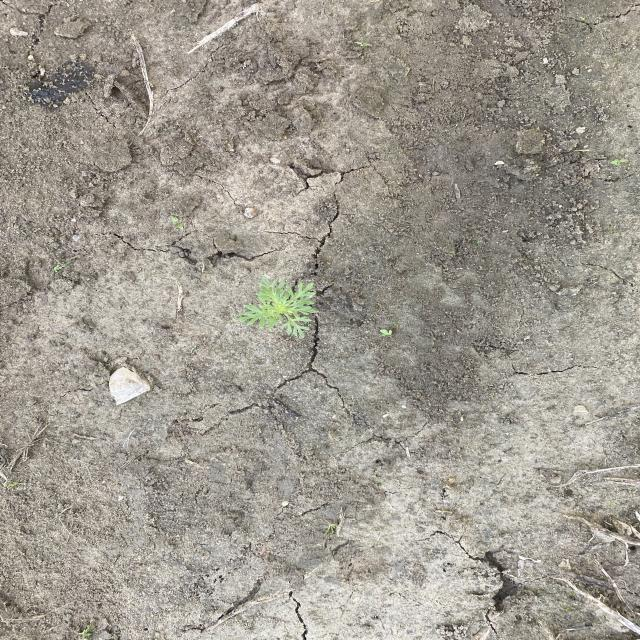Ragweed: (232, 274, 322, 339)
